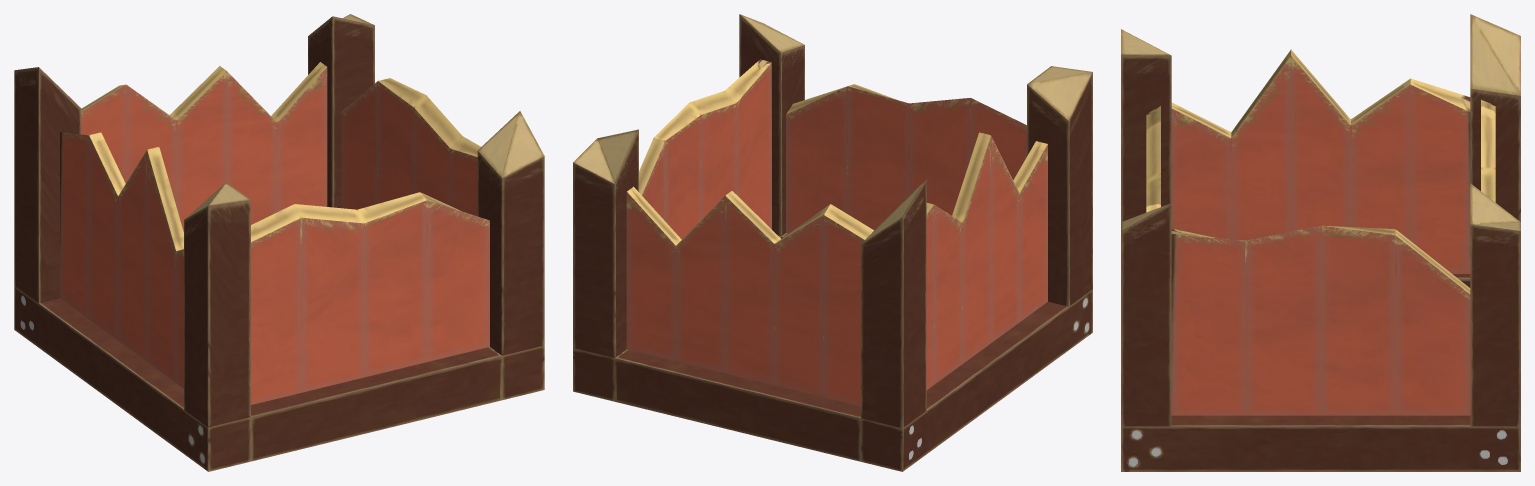
The model's file is crate_broken.glb.
The picture shows the model from 3 angles, left to right: view 1: azimuth 30°, elevation 25°; view 2: azimuth 150°, elevation 25°; view 3: azimuth 270°, elevation 25°; orthographic projection. The views are drawn at different scales.
Parts seen in each view (by area): view 1: Crate_Broken_1; view 2: Crate_Broken_1; view 3: Crate_Broken_1.
Boxes of the visible parts, x1,y1,x2,y2 form: Crate_Broken_1: [14, 14, 544, 471]; Crate_Broken_1: [573, 14, 1092, 471]; Crate_Broken_1: [1121, 14, 1520, 471].
Bounding box in the file's own units: 0.8283 × 0.661 × 0.8283.
1 material, 1 textured.
